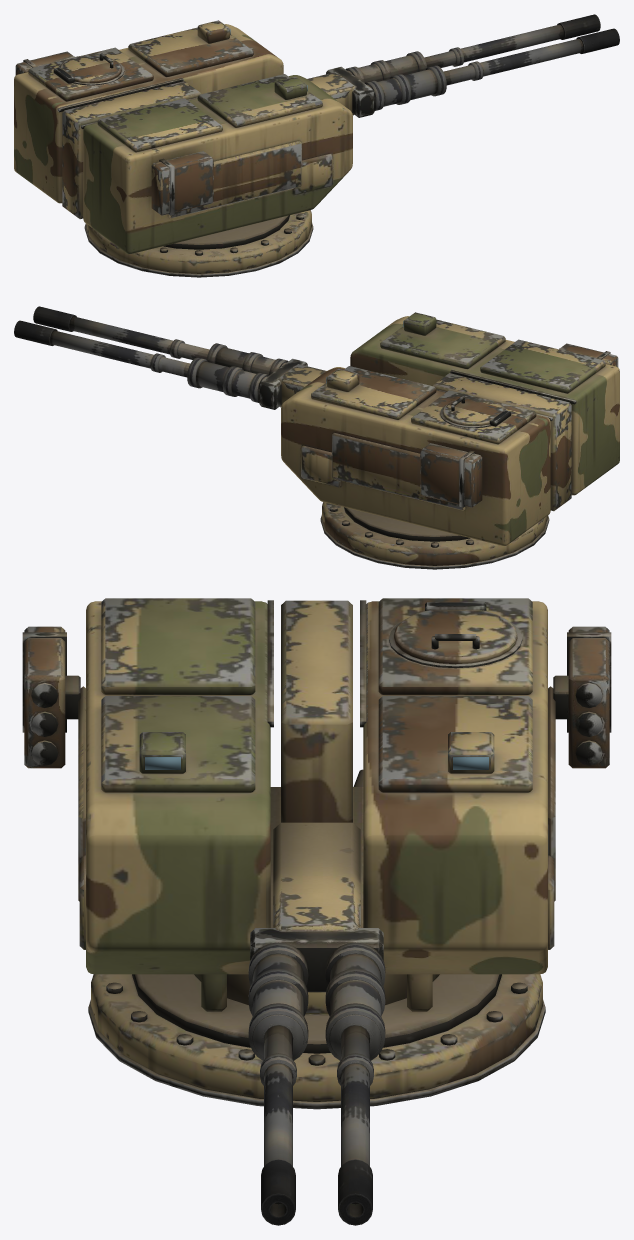
The model's file is turret_kit_t1_reed.glb.
3 renders of one model, top to bottom at view 1: azimuth 30°, elevation 25°; view 2: azimuth 150°, elevation 25°; view 3: azimuth 270°, elevation 25°, orthographic. The views are drawn at different scales.
Visible parts, largest first — view 1: turret_twin_t1, guns, pods; view 2: turret_twin_t1, guns, pods; view 3: turret_twin_t1, guns, pods.
Part boxes in pixels (<box>): turret_twin_t1: <box>14,20,352,277</box>; guns: <box>308,14,619,117</box>; pods: <box>15,51,213,215</box>; turret_twin_t1: <box>281,312,619,569</box>; guns: <box>14,306,325,409</box>; pods: <box>420,343,618,507</box>; turret_twin_t1: <box>78,598,555,1109</box>; guns: <box>248,822,385,1225</box>; pods: <box>22,626,611,768</box>.
Bounding box in the file's own units: 2.41 × 0.695 × 1.15.
4 materials, 3 textured.
